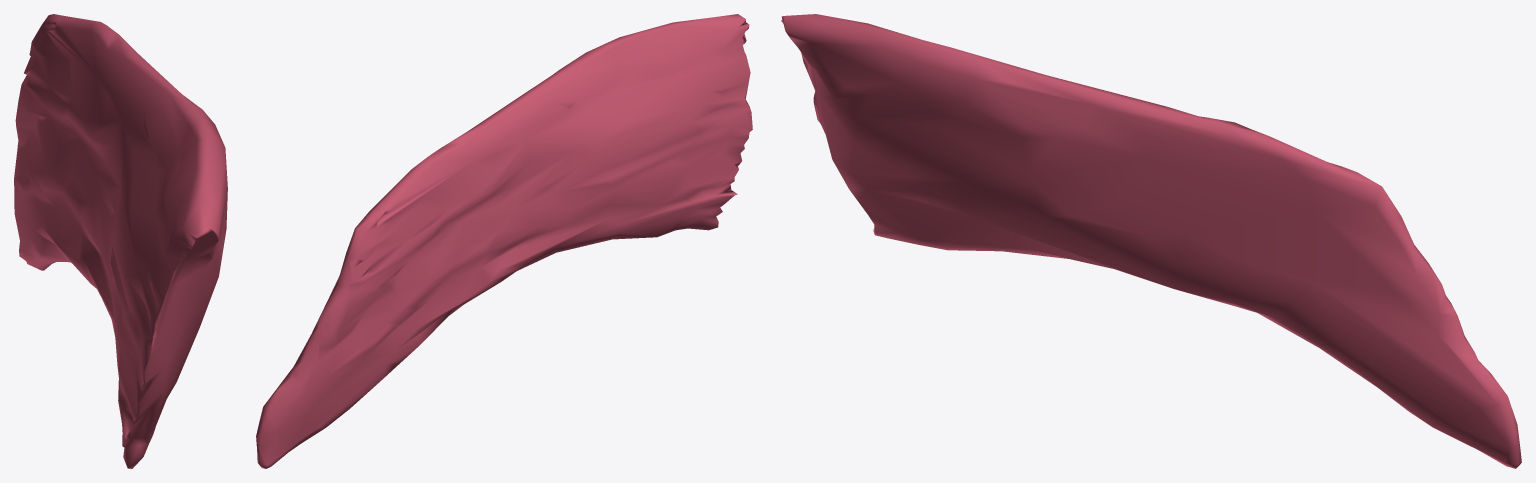
3 views of the same model, side by side, from view 1: azimuth 30°, elevation 25°; view 2: azimuth 150°, elevation 25°; view 3: azimuth 270°, elevation 25° (orthographic). The views are drawn at different scales.
Parts seen in each view (by area): view 1: 右侧咬肌深部; view 2: 右侧咬肌深部; view 3: 右侧咬肌深部.
Part boxes in pixels (x1,y1,x2,y2): 右侧咬肌深部: [14, 14, 227, 468]; 右侧咬肌深部: [256, 14, 752, 468]; 右侧咬肌深部: [781, 14, 1521, 468].
Bounding box in the file's own units: 0.0398 × 0.051 × 0.0965.
